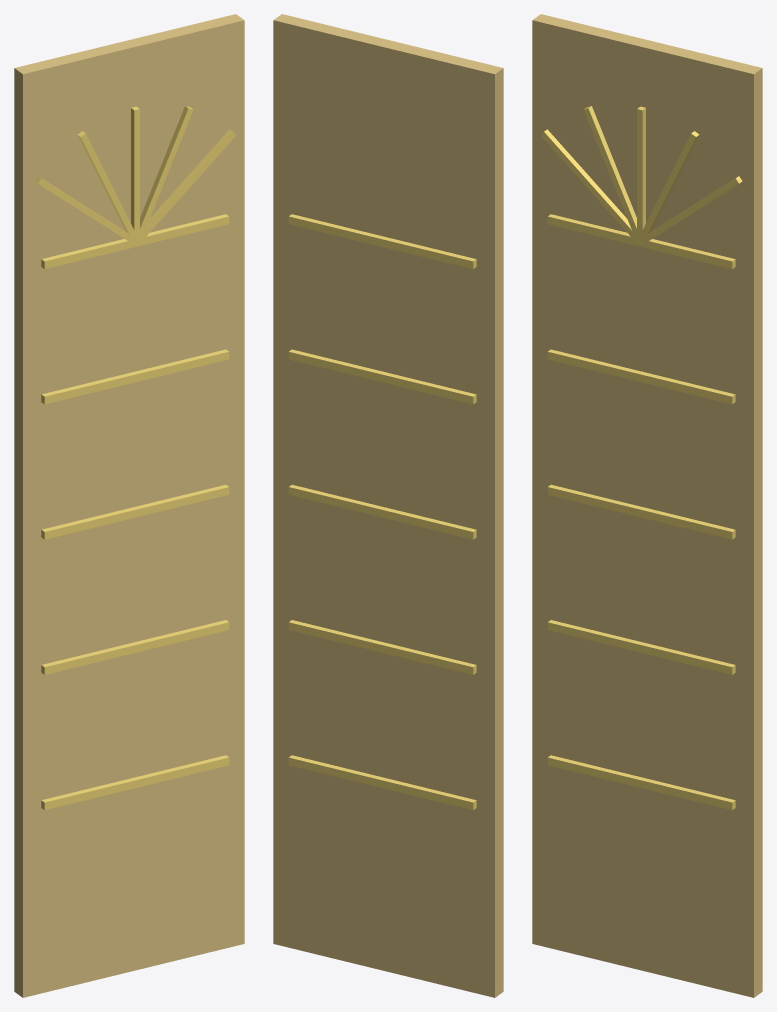
The model's file is HJ_HojaAscensor.fbx.
The picture shows the model from 3 angles, left to right: view 1: azimuth 30°, elevation 25°; view 2: azimuth 150°, elevation 25°; view 3: azimuth 330°, elevation 25°; orthographic projection.
Visible parts, largest first — view 1: HJ_HojaAscensor; view 2: HJ_HojaAscensor; view 3: HJ_HojaAscensor.
Part boxes in pixels (x1,y1,x2,y2): HJ_HojaAscensor: (14,14,244,997); HJ_HojaAscensor: (273,14,503,997); HJ_HojaAscensor: (532,14,762,997).
Size of the model in its own units: 0.6 by 2.39 by 0.071.
